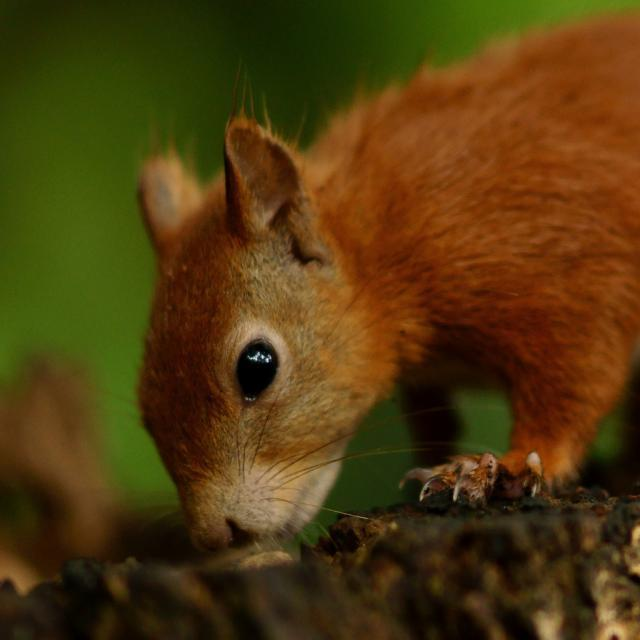rat: (132, 3, 640, 560)
